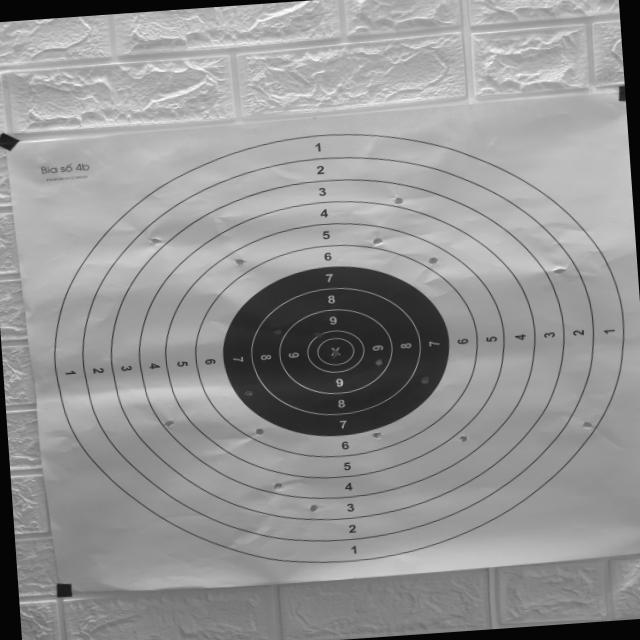bullet: (553, 267, 566, 274), (149, 237, 162, 244), (372, 238, 383, 245), (234, 258, 245, 265), (273, 482, 282, 490), (272, 328, 282, 335), (457, 435, 467, 442), (582, 421, 592, 428), (309, 504, 317, 512), (393, 197, 402, 204), (428, 257, 437, 264), (164, 420, 173, 427), (420, 376, 428, 383), (255, 428, 263, 435), (372, 432, 381, 438), (332, 349, 339, 356), (313, 331, 321, 337), (244, 390, 252, 396), (375, 359, 382, 365)
target: (9, 94, 640, 590)
